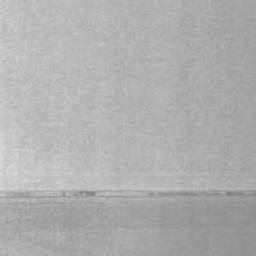Welding line: (0, 188, 256, 200)
